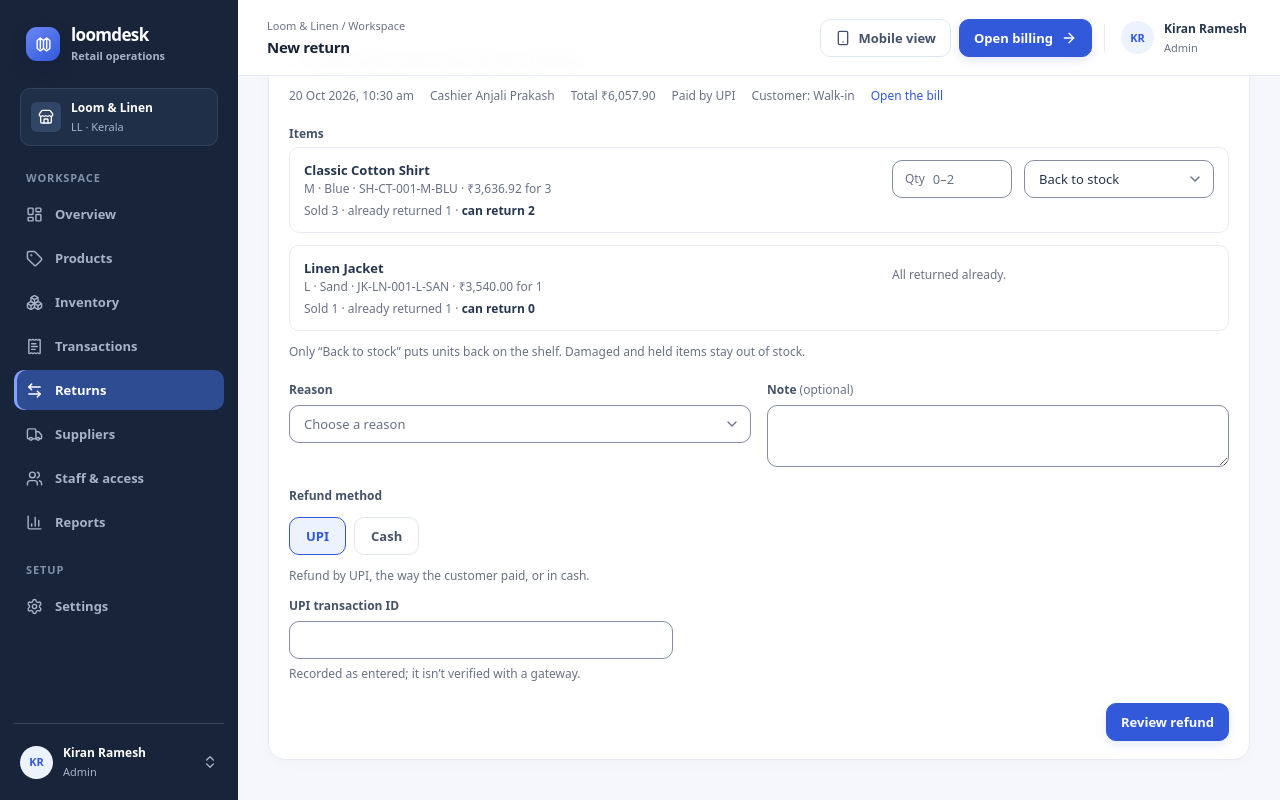
Test: return wizard › checks quantities and the reason before asking for a refund
(page scrolled)
Expected: the text "can return 2" is shown, [462, 202, 535, 219]
Click the button "Review refund": (1168, 722) [1106, 703, 1229, 741]
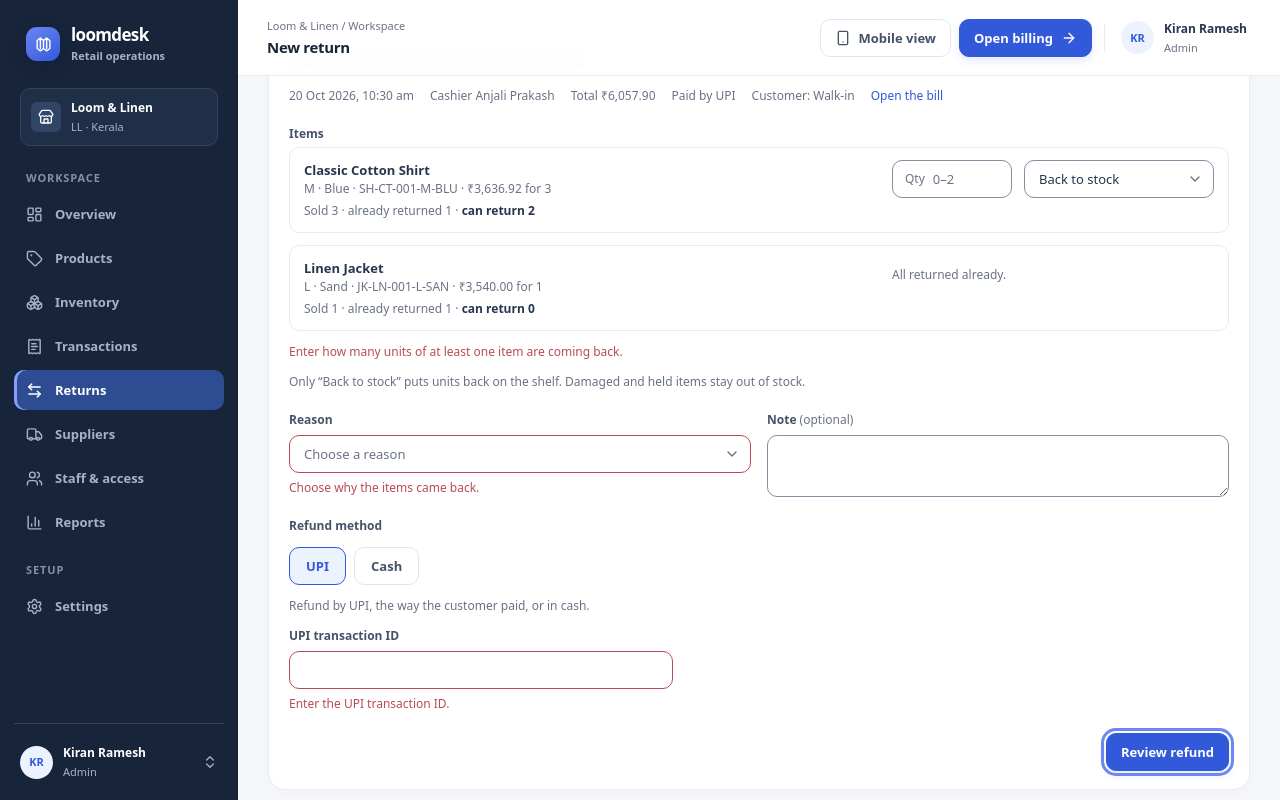
Now the text "Enter how many units of at least one item are coming back." is shown, box [289, 343, 623, 360]
Now the text "Choose why the items came back." is shown, box [289, 479, 479, 496]
In the field named "Units of Classic Cotton Shirt": (968, 179) [925, 161, 1011, 197], type "3"
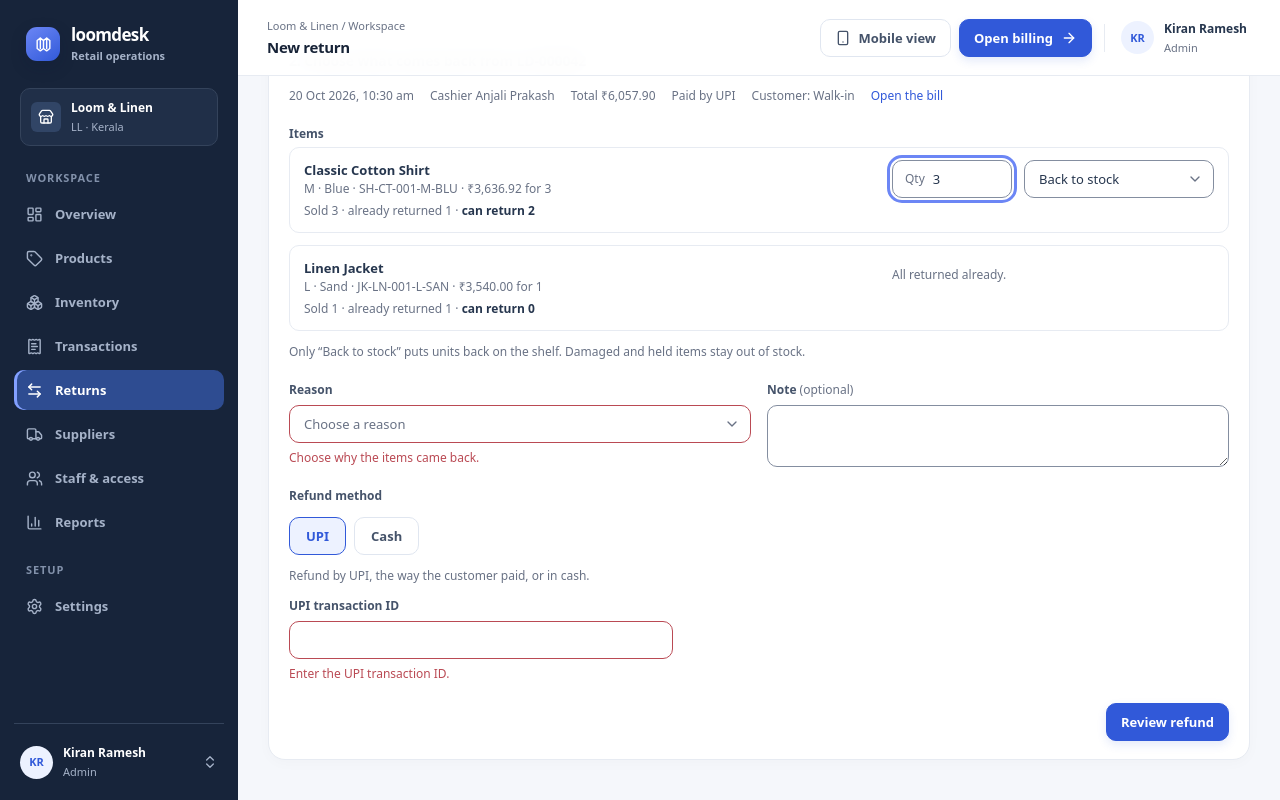
Click the button "Review refund": (1168, 722) [1106, 703, 1229, 741]
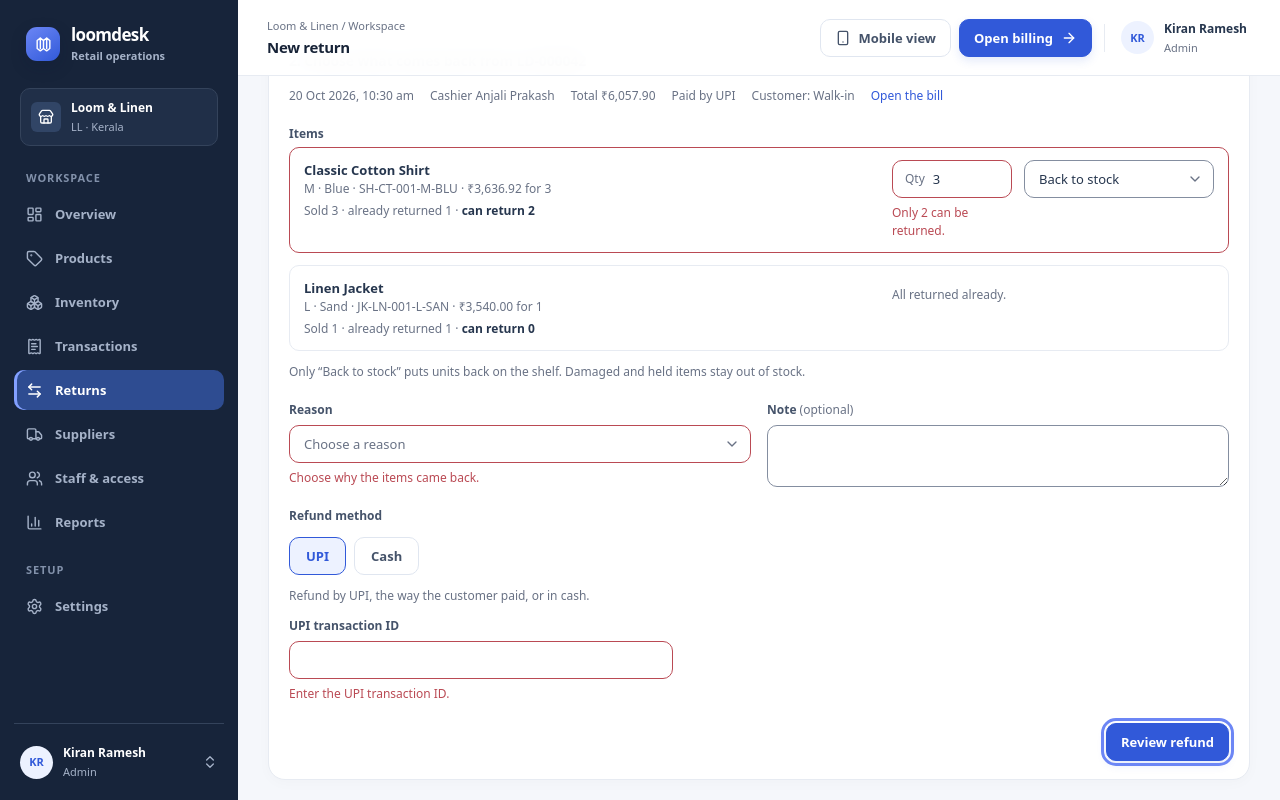
Now the text "Only 2 can be returned." is shown, box [892, 204, 968, 239]
